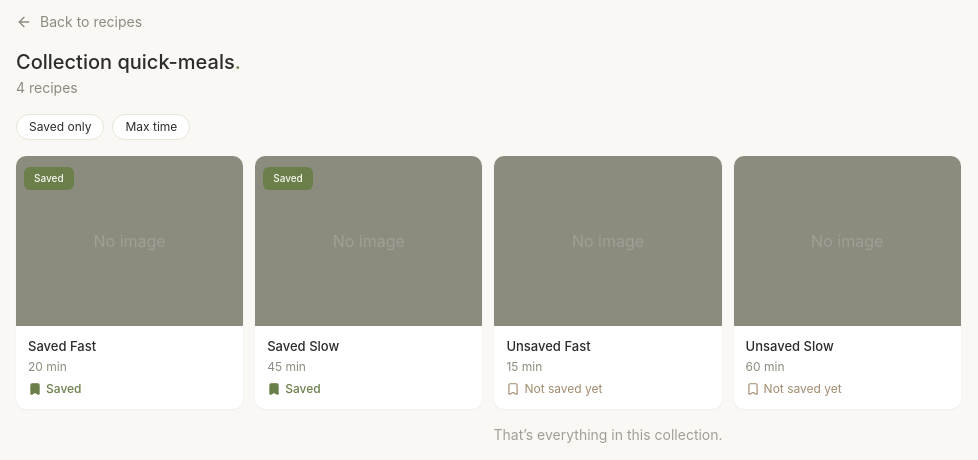
it: AC4 — Saved only and Max time filters › "Max time" hides cards over the slider value (starting at 30)
Expected: the heading "Saved Fast" is shown, [28,338,96,354]
Click the button "Max time". click: point(151, 127)
box: [112,114,190,140]
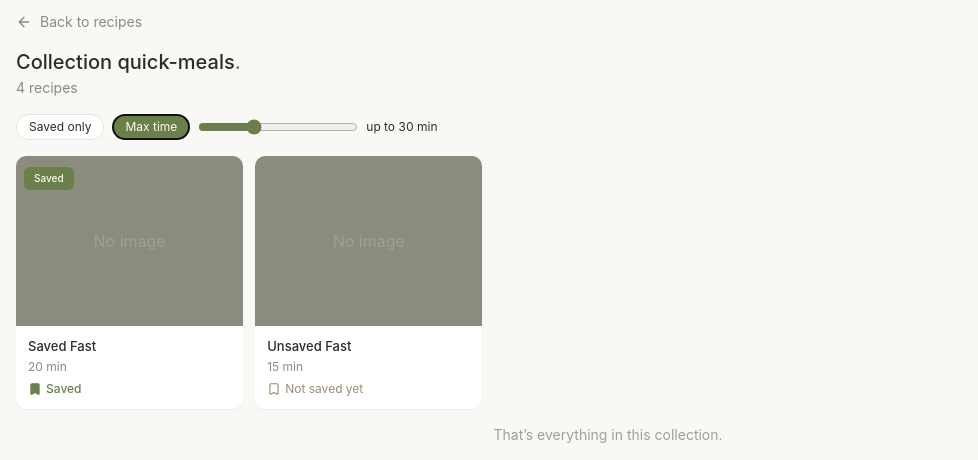
Expected: the heading "Saved Fast" is shown, [28,338,96,354]
Now the button "Saved Slow" is gone
Now the button "Unsaved Slow" is gone
